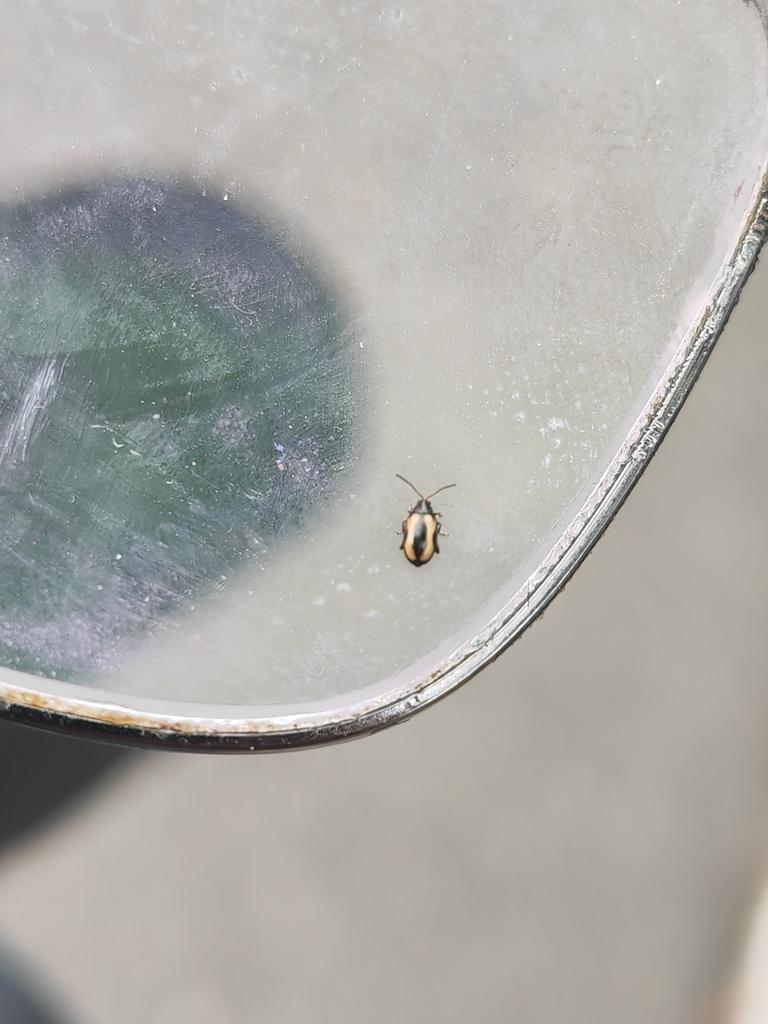flea_beetle: (377, 447, 470, 599)
